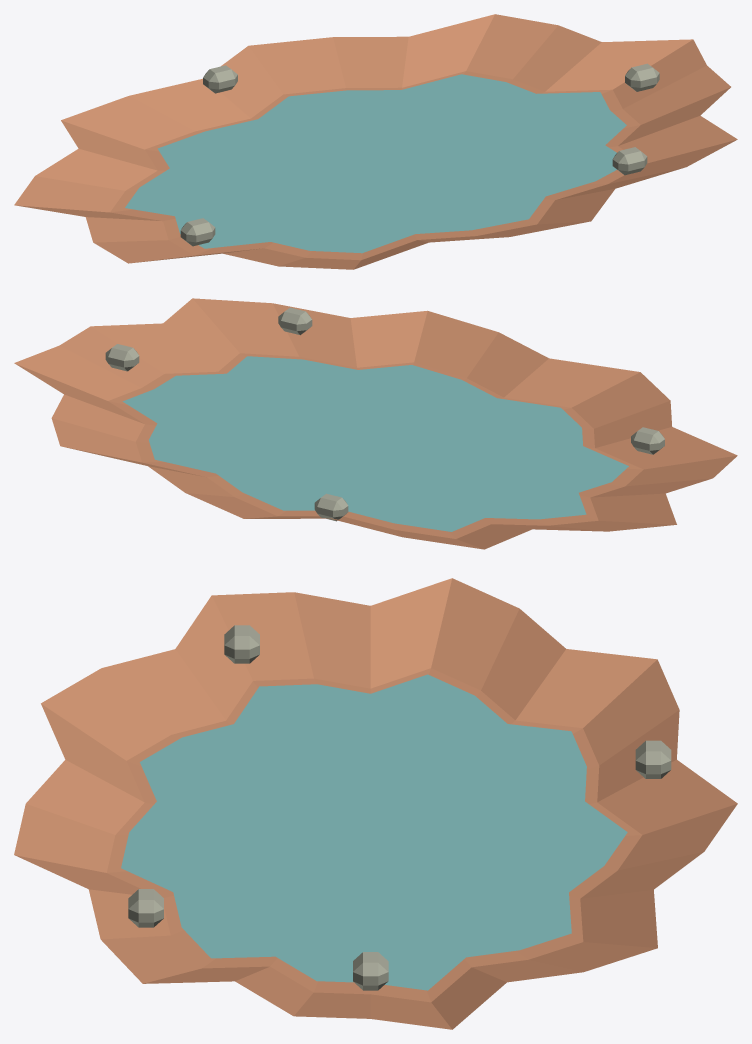
3 views of the same model, one above another, from view 1: azimuth 30°, elevation 25°; view 2: azimuth 150°, elevation 25°; view 3: azimuth 270°, elevation 25° (orthographic). The views are drawn at different scales.
Visible parts, largest first — view 1: BA-0074 batched; view 2: BA-0074 batched; view 3: BA-0074 batched.
Part boxes in pixels (bbox=[...]): BA-0074 batched: bbox=[14, 14, 737, 269]; BA-0074 batched: bbox=[14, 298, 737, 549]; BA-0074 batched: bbox=[14, 578, 737, 1029].
Size of the model in its own units: 2.1 by 0.115 by 1.42.
